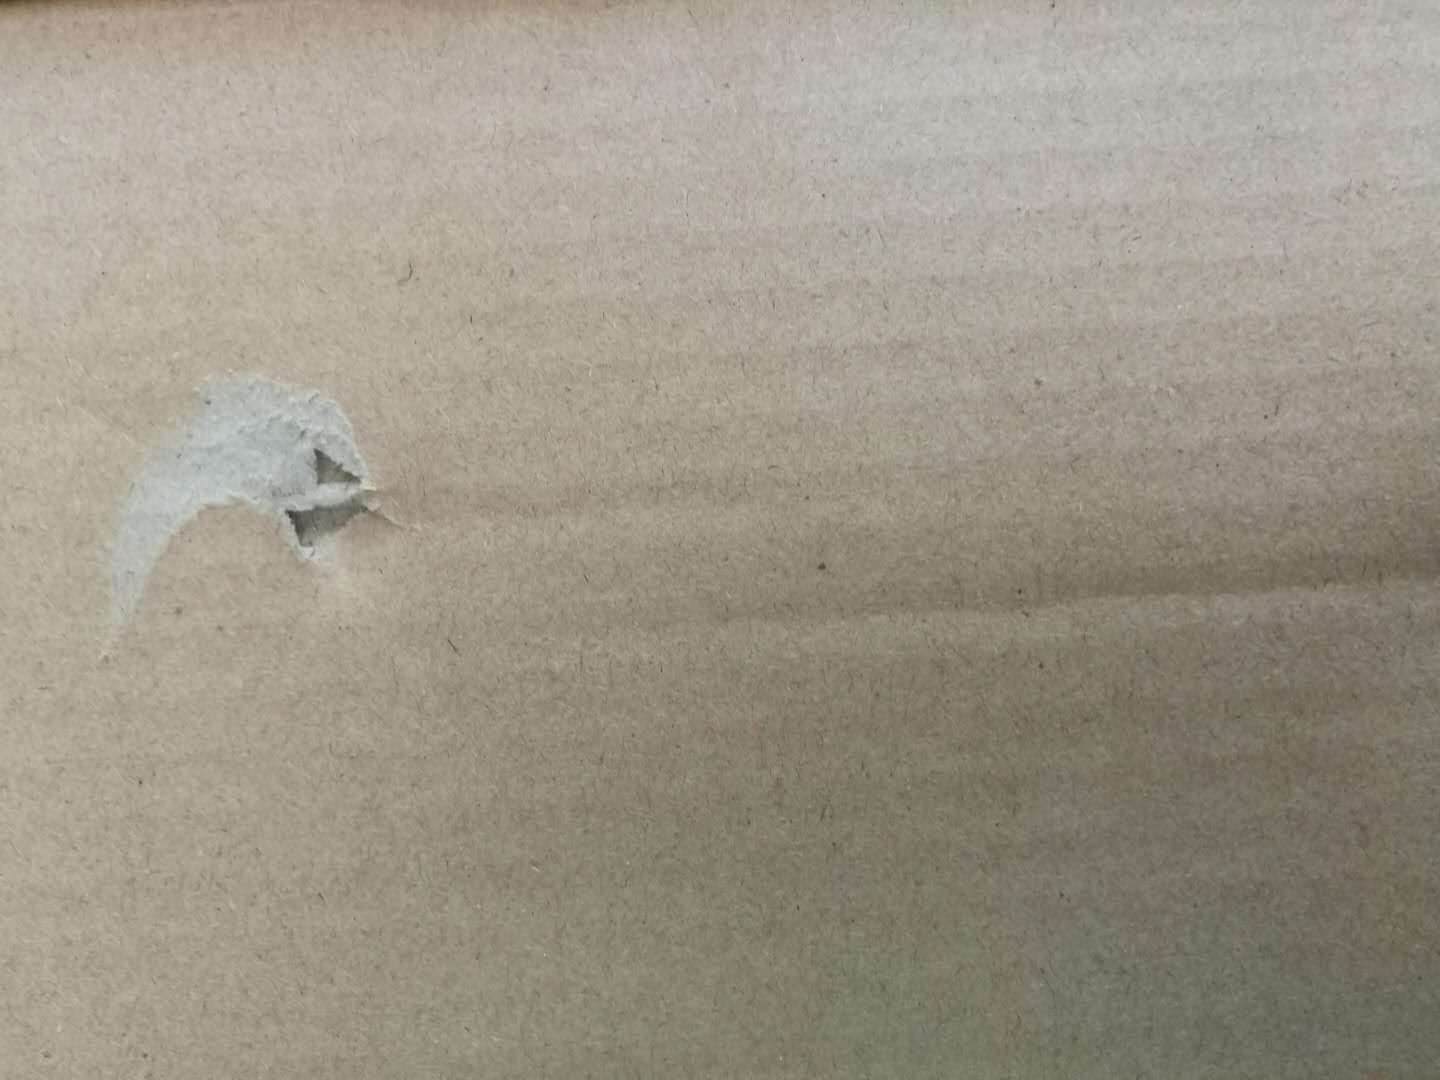defect: (81, 344, 439, 687), (719, 538, 1440, 650)
